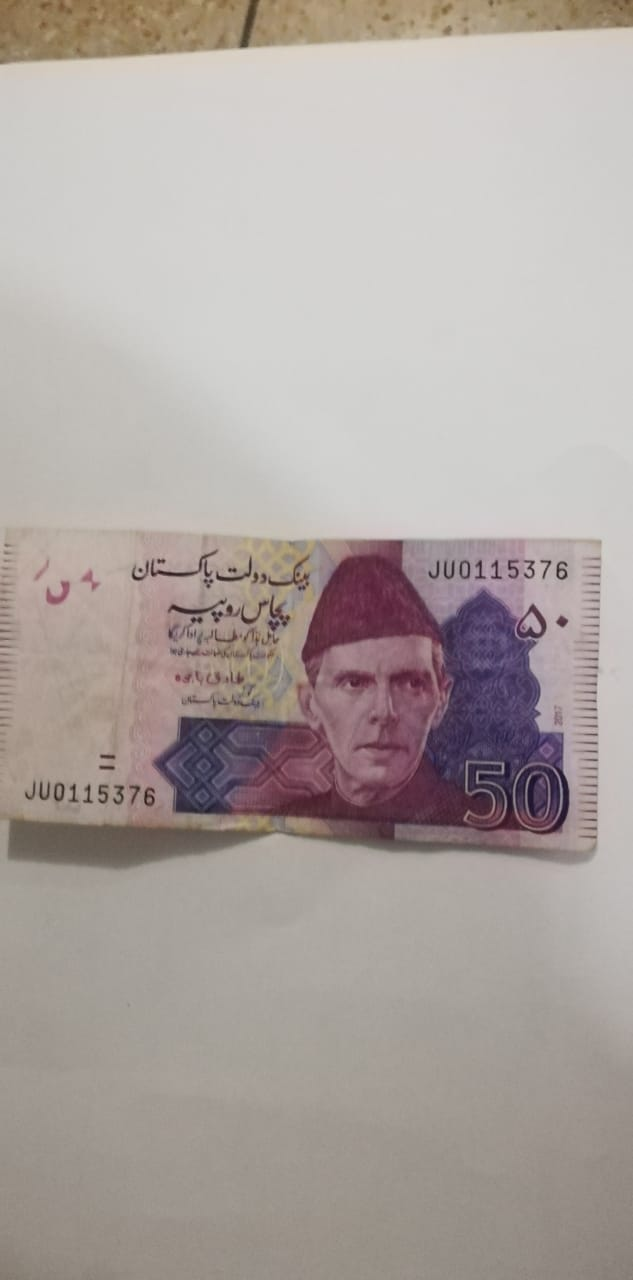50 rupee: (14, 512, 602, 885)
